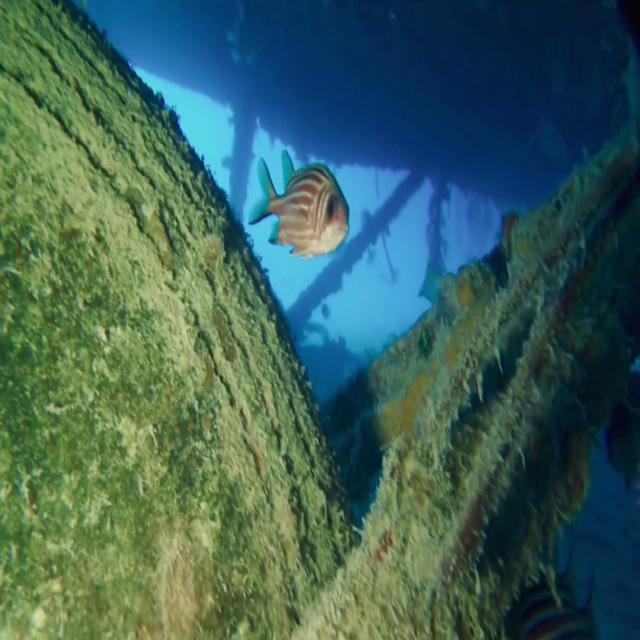Asker Baligi: (247, 147, 351, 260)
